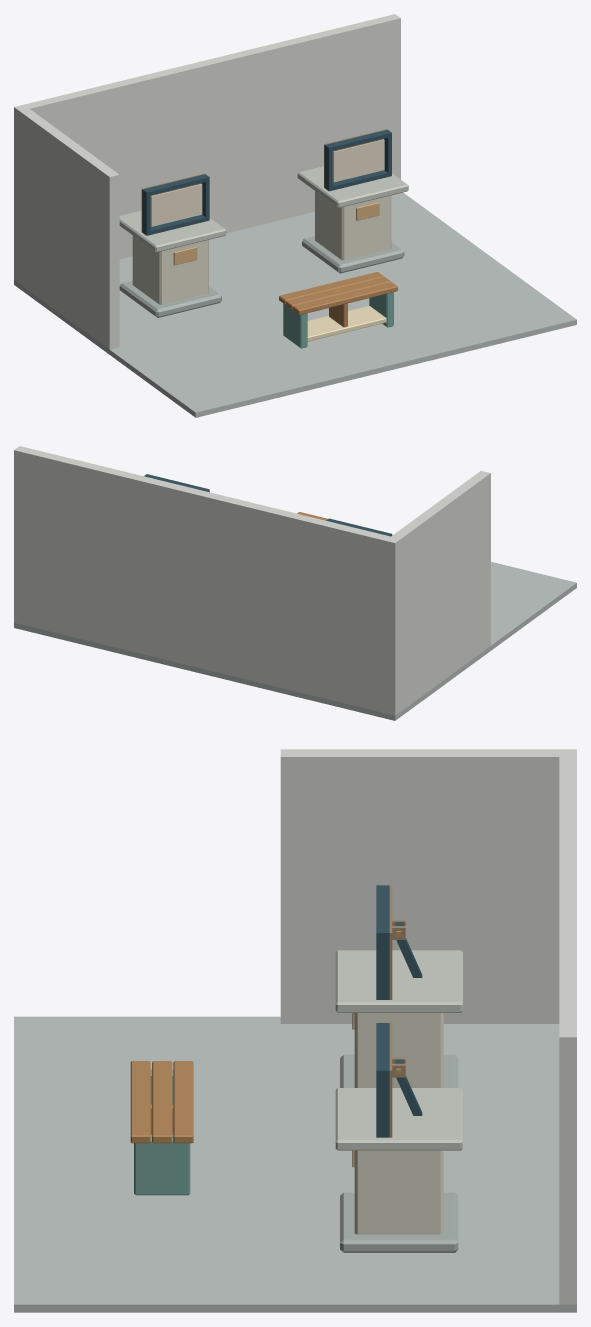
3 views of the same model, one above another, from view 1: azimuth 30°, elevation 25°; view 2: azimuth 150°, elevation 25°; view 3: azimuth 270°, elevation 25° (orthographic). The views are drawn at different scales.
Parts seen in each view (by area): view 1: SCENE_ONLY__DisplayRoomFloor, SCENE_ONLY__RearDisplayWall, SCENE_ONLY__LeftDisplayReturnWall, whole_right_exhibit_plinth__museum-exhibit-plinth-01, whole_left_exhibit_plinth__museum-exhibit-plinth-01, whole_low_rest_bench__entryway-storage-bench-01, whole_left_blank_frame__ContinuousDeepFrame, whole_right_blank_frame__ContinuousDeepFrame, whole_left_blank_frame__BlankFloatingDisplayPanel, whole_right_blank_frame__BlankFloatingDisplayPanel; view 2: SCENE_ONLY__RearDisplayWall, SCENE_ONLY__LeftDisplayReturnWall, SCENE_ONLY__DisplayRoomFloor; view 3: SCENE_ONLY__DisplayRoomFloor, SCENE_ONLY__LeftDisplayReturnWall, whole_right_exhibit_plinth__museum-exhibit-plinth-01, whole_left_exhibit_plinth__museum-exhibit-plinth-01, SCENE_ONLY__RearDisplayWall, whole_low_rest_bench__entryway-storage-bench-01, whole_left_blank_frame__ContinuousDeepFrame, whole_right_blank_frame__ContinuousDeepFrame.
Boxes of the visible parts, box(x1,y1,x2,y2) form: SCENE_ONLY__DisplayRoomFloor: box(14, 192, 576, 417); SCENE_ONLY__RearDisplayWall: box(14, 14, 400, 283); SCENE_ONLY__LeftDisplayReturnWall: box(19, 109, 119, 349); whole_right_exhibit_plinth__museum-exhibit-plinth-01: box(297, 166, 408, 273); whole_left_exhibit_plinth__museum-exhibit-plinth-01: box(119, 210, 226, 317); whole_low_rest_bench__entryway-storage-bench-01: box(279, 271, 397, 348); whole_left_blank_frame__ContinuousDeepFrame: box(142, 174, 209, 235); whole_right_blank_frame__ContinuousDeepFrame: box(324, 129, 391, 191); whole_left_blank_frame__BlankFloatingDisplayPanel: box(151, 184, 202, 226); whole_right_blank_frame__BlankFloatingDisplayPanel: box(333, 139, 384, 182); SCENE_ONLY__RearDisplayWall: box(14, 446, 400, 715); SCENE_ONLY__LeftDisplayReturnWall: box(391, 471, 490, 711); SCENE_ONLY__DisplayRoomFloor: box(14, 562, 576, 720); SCENE_ONLY__DisplayRoomFloor: box(14, 1016, 576, 1312); SCENE_ONLY__LeftDisplayReturnWall: box(280, 749, 559, 1023); whole_right_exhibit_plinth__museum-exhibit-plinth-01: box(335, 1088, 462, 1252); whole_left_exhibit_plinth__museum-exhibit-plinth-01: box(335, 950, 462, 1087); SCENE_ONLY__RearDisplayWall: box(559, 749, 576, 1304); whole_low_rest_bench__entryway-storage-bench-01: box(130, 1061, 193, 1195); whole_left_blank_frame__ContinuousDeepFrame: box(376, 885, 389, 999); whole_right_blank_frame__ContinuousDeepFrame: box(376, 1023, 389, 1137).
Size of the model in its own units: 4.6 by 2.05 by 3.8.
